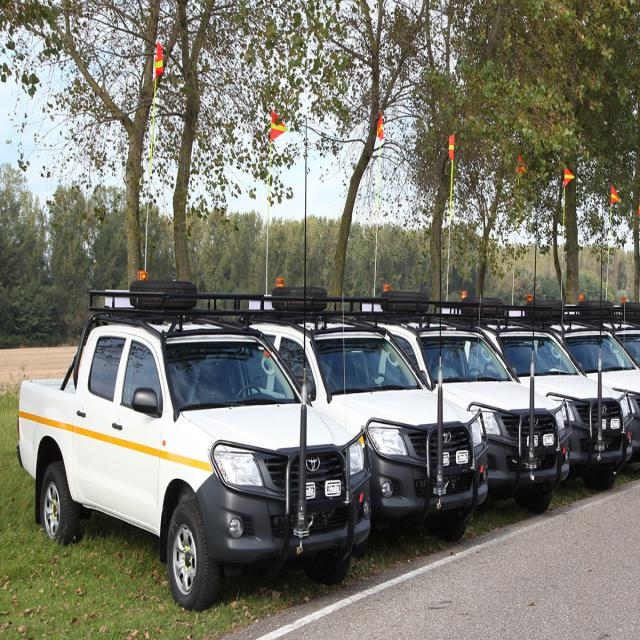light_vehicle: (14, 257, 365, 591)
